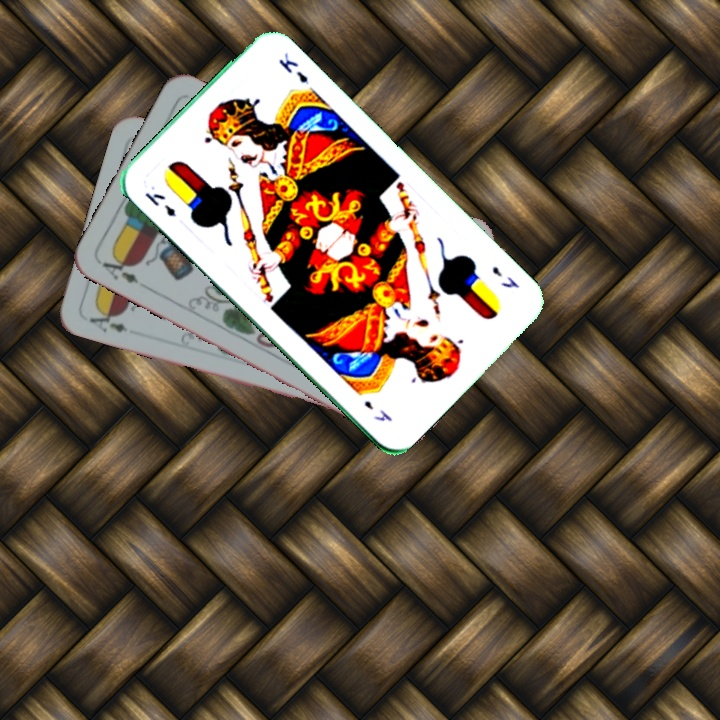EA: (98, 252, 141, 286), (85, 308, 130, 335)
EK: (140, 188, 178, 220), (488, 262, 521, 291)
